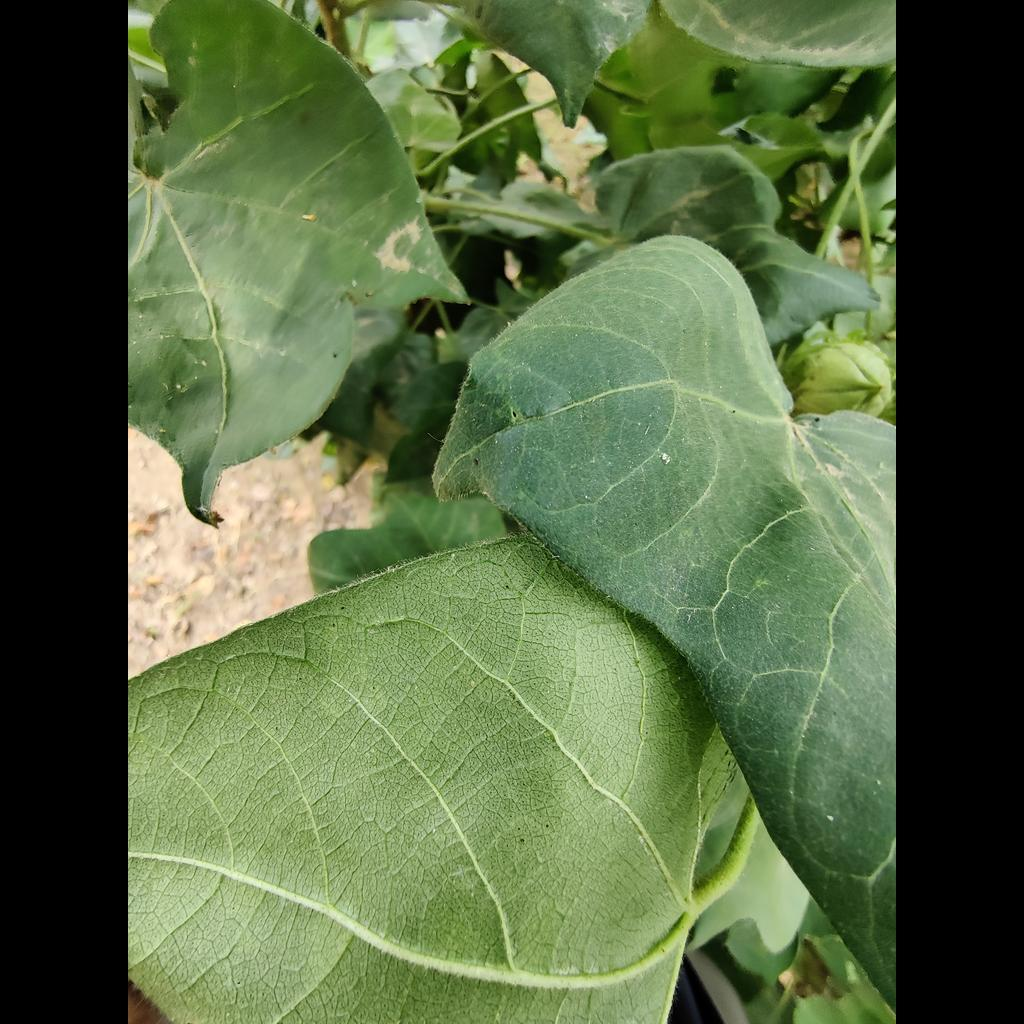nymph: (660, 452, 670, 464), (351, 279, 358, 288), (826, 815, 834, 822), (878, 462, 885, 470), (201, 360, 207, 367), (175, 384, 182, 390), (138, 313, 144, 320), (159, 428, 166, 434), (876, 779, 881, 785), (470, 680, 474, 687)
